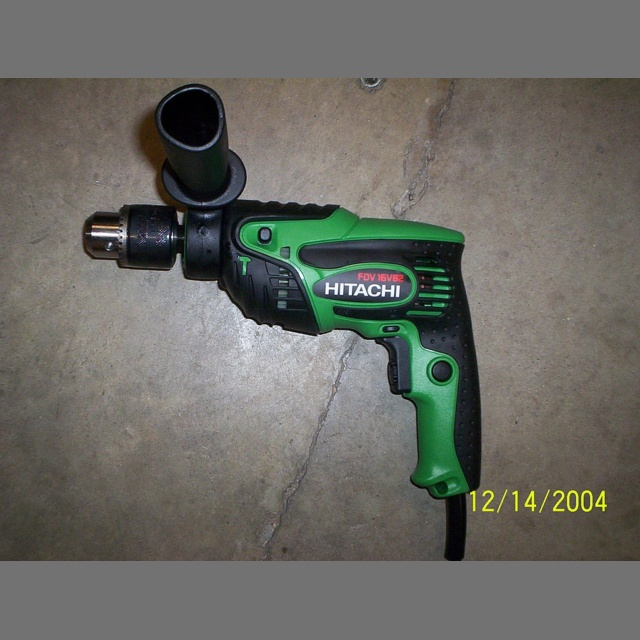drill: (81, 84, 481, 499)
